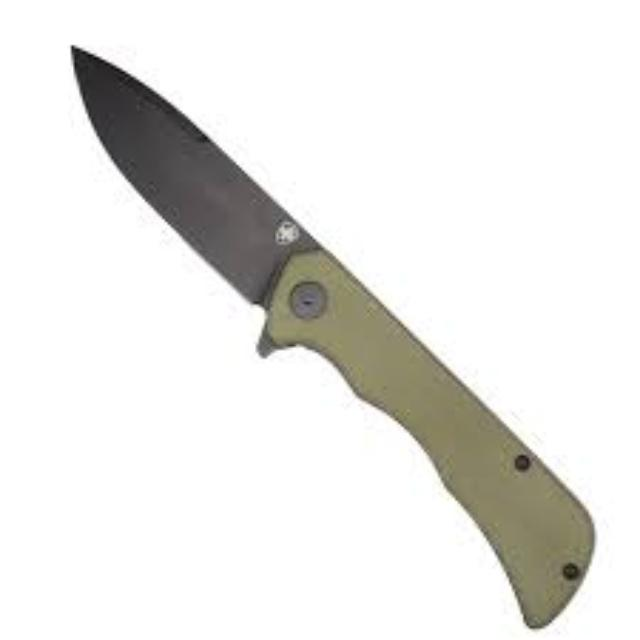Knife: (68, 44, 594, 628)
